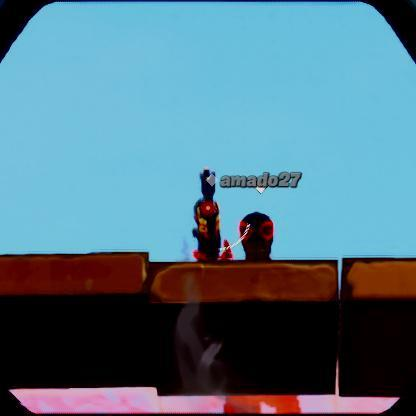person: (218, 204, 282, 274)
